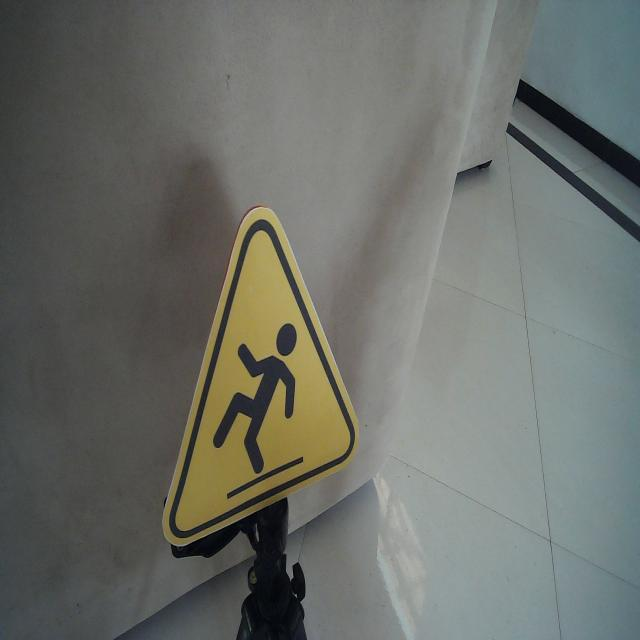slippery_sign: (160, 202, 362, 550)
